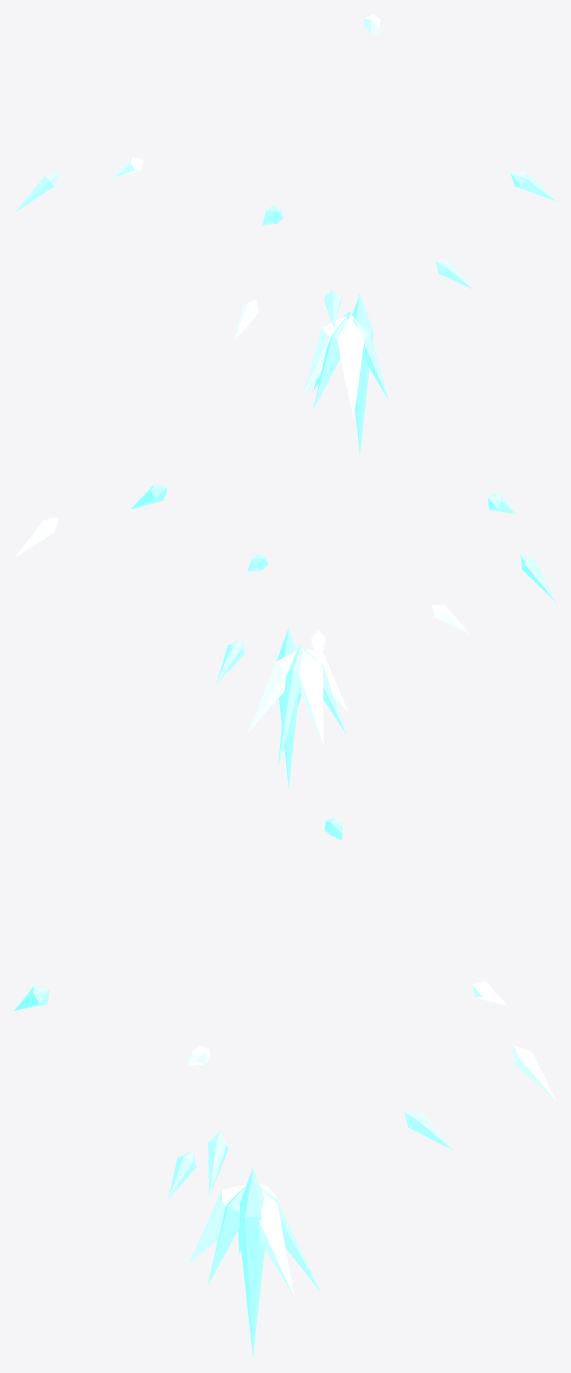
Rendered from levistone.glb.
3 views of the same model, one above another, from view 1: azimuth 30°, elevation 25°; view 2: azimuth 150°, elevation 25°; view 3: azimuth 270°, elevation 25° (orthographic). The views are drawn at different scales.
Parts seen in each view (by area): view 1: levistone; view 2: levistone; view 3: levistone.
Boxes of the visible parts, x1,y1,x2,y2 form: levistone: (14, 14, 556, 454); levistone: (14, 484, 556, 787); levistone: (14, 817, 556, 1356).
Bounding box in the file's own units: 6.22 × 3.98 × 5.11.
